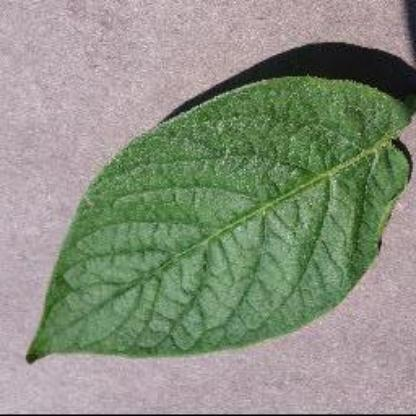Healthy-plant: (29, 68, 415, 364)
